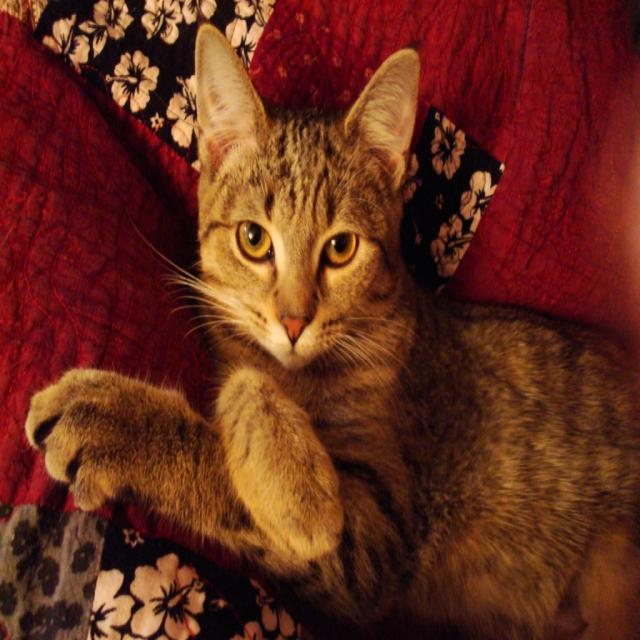Cat: (25, 19, 638, 638)
